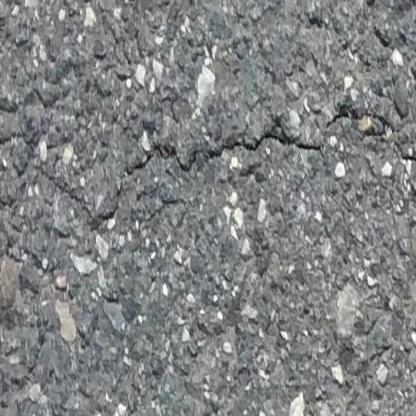Cracks: (98, 117, 325, 227), (320, 97, 416, 176)
